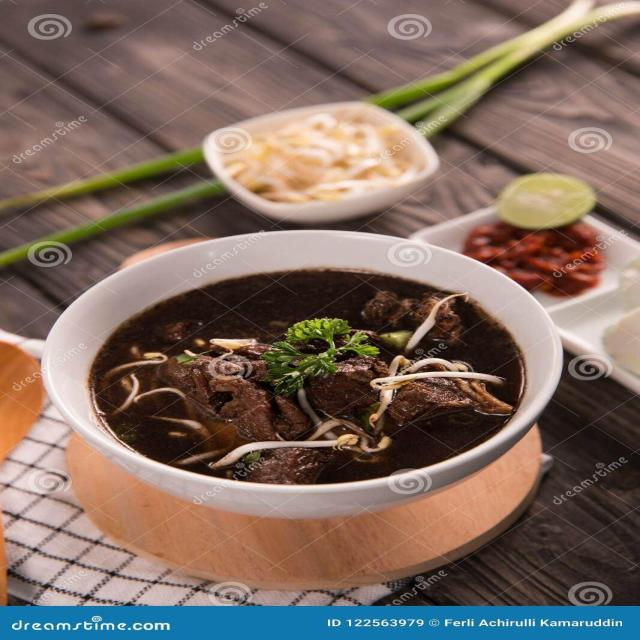Rawon: (60, 266, 536, 478)
